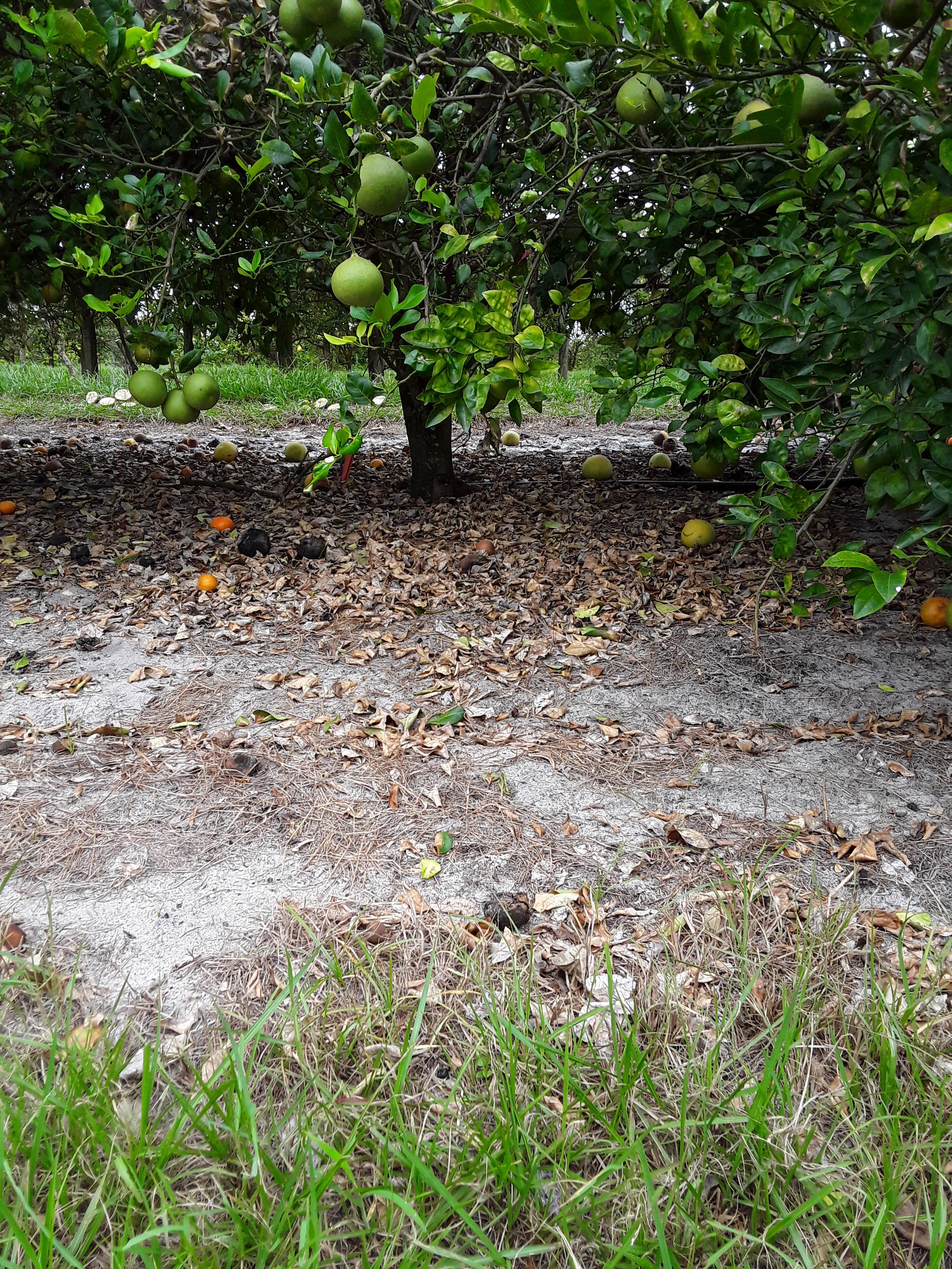fruit_on_ground: (348, 152, 411, 218), (612, 68, 669, 127), (331, 249, 386, 310), (785, 72, 837, 125), (730, 98, 781, 147), (318, 1, 369, 48), (162, 383, 206, 428), (278, 0, 320, 42), (398, 133, 437, 176), (486, 358, 522, 403), (128, 370, 169, 408), (690, 443, 731, 480), (183, 373, 222, 411), (294, 0, 347, 27), (879, 0, 925, 31), (12, 149, 40, 175), (40, 280, 65, 306), (132, 341, 160, 362), (119, 191, 141, 217), (220, 168, 241, 192), (0, 233, 9, 255)
fruit_on_tree: (481, 890, 533, 932), (852, 435, 896, 483), (236, 526, 274, 559), (681, 519, 719, 551), (293, 535, 328, 564), (224, 752, 259, 781), (920, 596, 951, 628), (581, 454, 615, 482), (2, 922, 26, 954), (282, 440, 309, 463), (213, 440, 240, 463), (303, 473, 329, 495), (457, 554, 486, 572), (648, 453, 675, 471), (208, 515, 235, 533), (196, 573, 219, 594), (70, 544, 91, 565), (476, 538, 497, 558), (0, 499, 19, 519), (502, 430, 521, 448), (138, 553, 157, 570), (47, 534, 72, 546), (653, 430, 669, 448), (663, 437, 679, 454), (113, 388, 132, 402), (44, 460, 63, 473), (945, 596, 952, 629), (0, 438, 16, 451), (150, 468, 166, 481), (67, 438, 84, 450), (85, 392, 99, 406), (122, 439, 138, 450), (57, 445, 71, 457), (327, 401, 342, 412), (100, 397, 116, 407), (369, 458, 385, 468), (20, 437, 33, 449), (208, 438, 222, 449), (372, 395, 387, 405), (313, 397, 328, 407), (33, 445, 49, 454), (187, 436, 200, 447), (176, 443, 190, 453), (120, 401, 137, 409), (181, 467, 193, 478), (193, 451, 206, 461), (31, 436, 45, 445), (135, 432, 147, 442), (48, 447, 59, 456), (181, 435, 189, 445), (116, 424, 124, 431)
